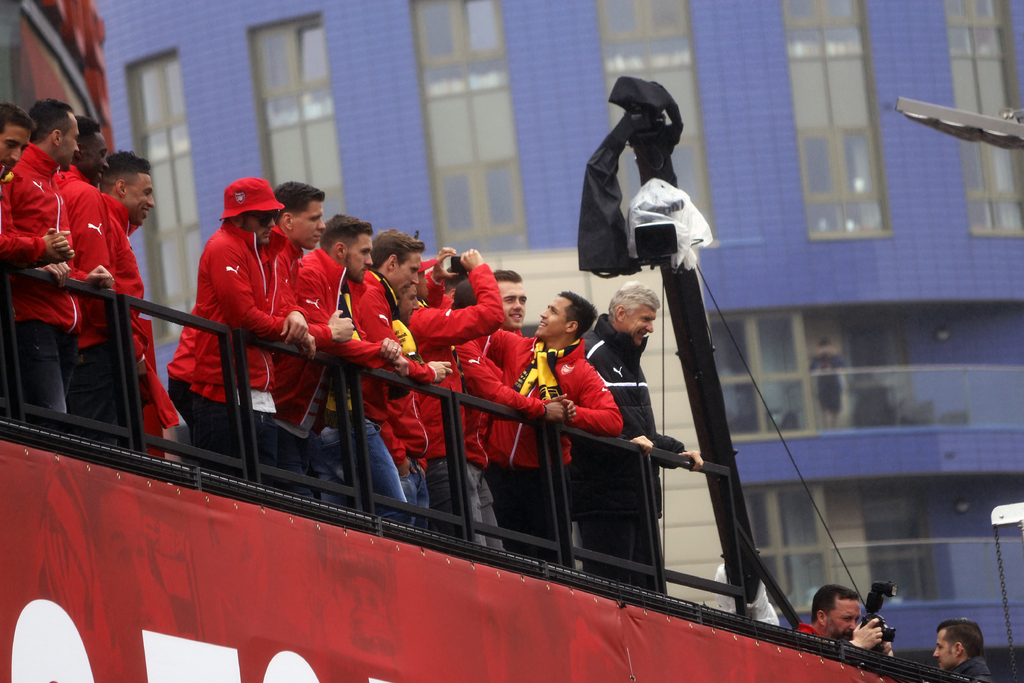Human_hand: (39, 229, 78, 265), (851, 618, 885, 652), (37, 260, 70, 293), (43, 225, 76, 258), (432, 244, 463, 279), (279, 311, 309, 347), (548, 389, 578, 424), (328, 309, 355, 345), (85, 263, 114, 292), (295, 331, 318, 366), (677, 448, 707, 474), (426, 357, 455, 383), (375, 338, 402, 364), (627, 433, 654, 457), (459, 245, 481, 272), (543, 402, 569, 422), (392, 356, 413, 379), (881, 639, 895, 661)
